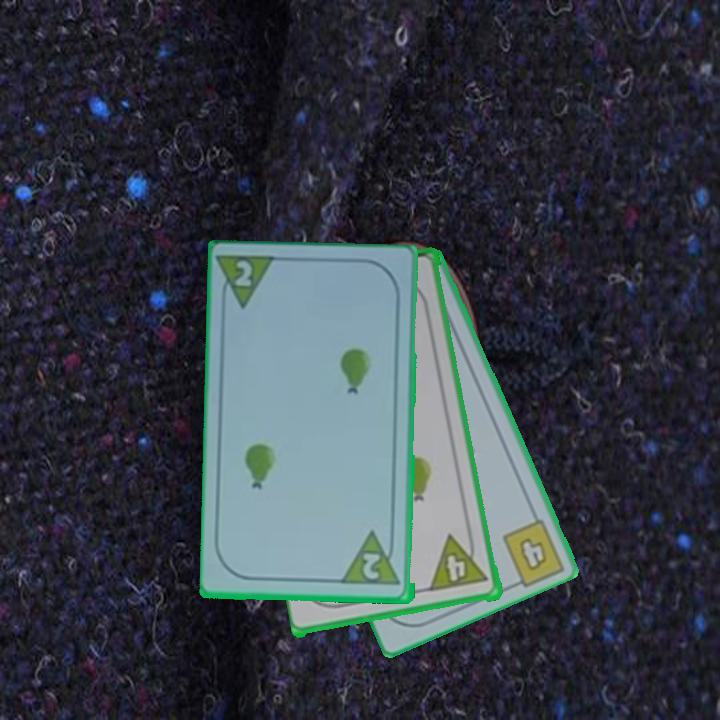2p: (217, 253, 282, 314), (341, 529, 404, 589)
4b: (515, 534, 551, 575)
4p: (427, 529, 492, 595)
